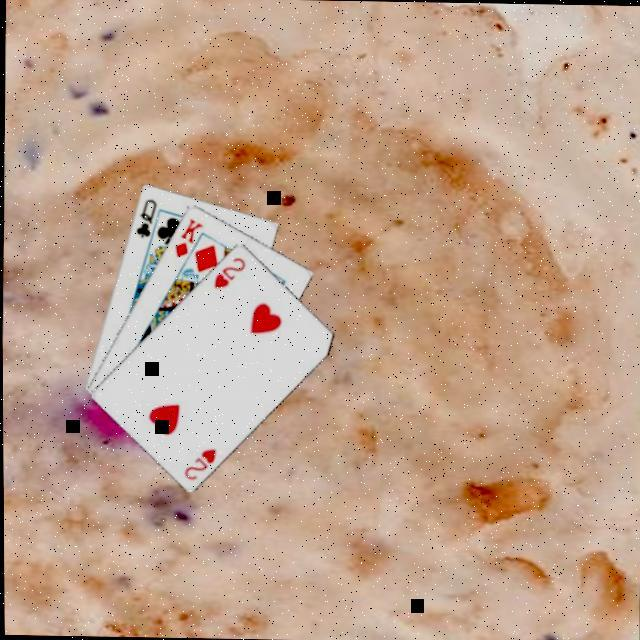2H: (212, 254, 250, 293), (181, 446, 220, 484)
KD: (172, 216, 207, 262)
QC: (134, 196, 160, 242)
